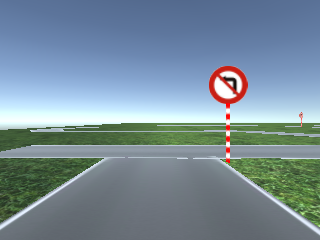0: (1, 192, 320, 239)
NoLeft: (208, 65, 248, 104)
